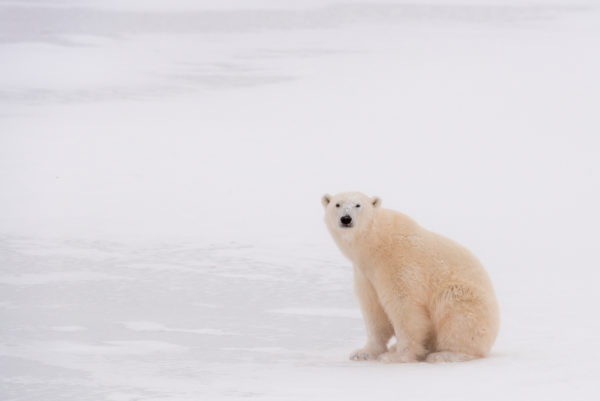Polar Bear: (318, 164, 518, 386)
